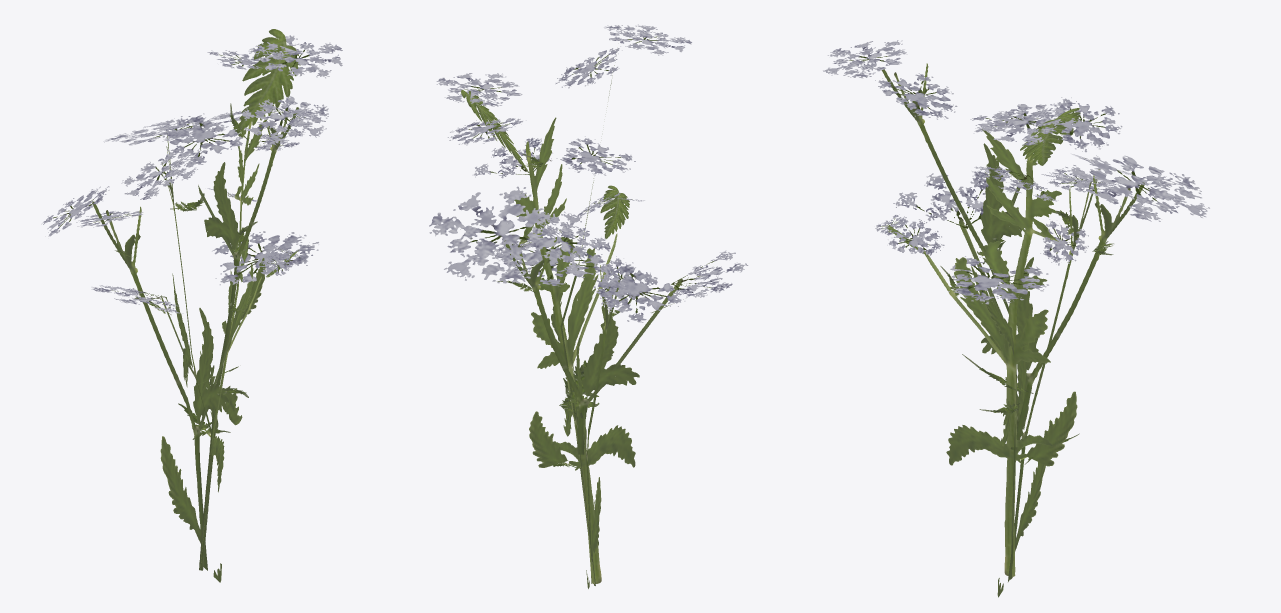
The model's file is arden_forest_yarrow_02_foliage.fbx.
3 renders of one model, left to right at view 1: azimuth 30°, elevation 25°; view 2: azimuth 150°, elevation 25°; view 3: azimuth 270°, elevation 25°, orthographic. The views are drawn at different scales.
Visible parts, largest first — view 1: arden_forest_yarrow_02_foliage; view 2: arden_forest_yarrow_02_foliage; view 3: arden_forest_yarrow_02_foliage.
Boxes of the visible parts, x1,y1,x2,y2 form: arden_forest_yarrow_02_foliage: (41, 29, 342, 582); arden_forest_yarrow_02_foliage: (429, 24, 748, 588); arden_forest_yarrow_02_foliage: (823, 40, 1209, 597).
Bounding box in the file's own units: 80.32 × 127 × 97.58.
